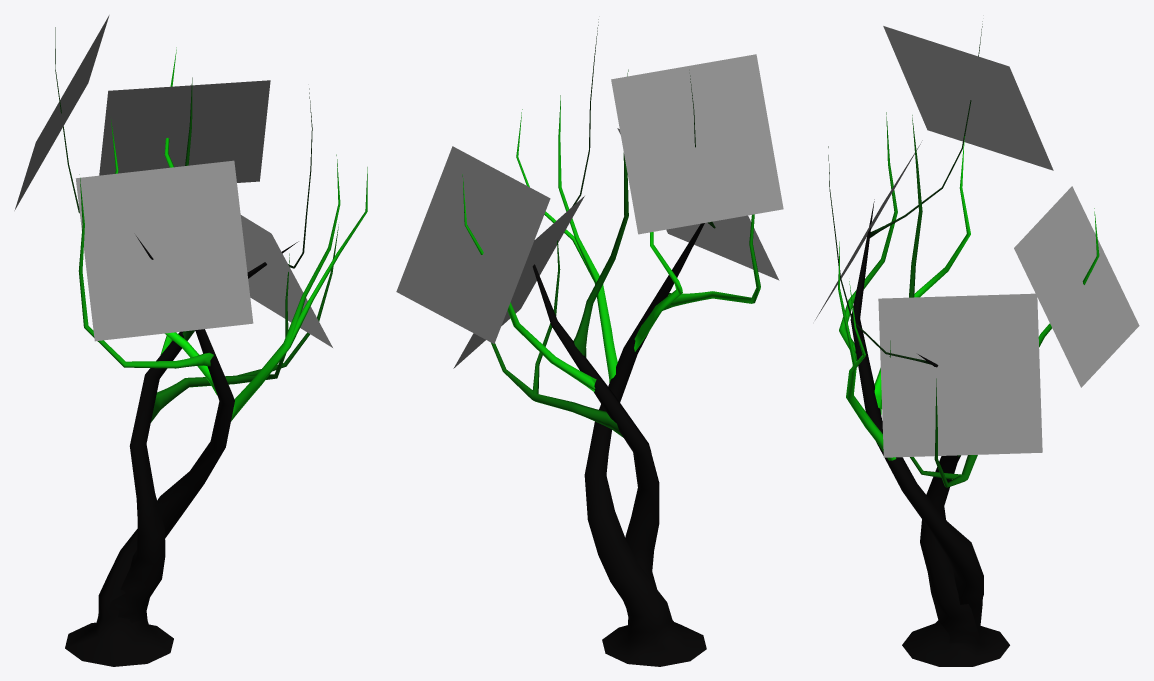
File: S_Ingredient.fbx
3 renders of one model, left to right at view 1: azimuth 30°, elevation 25°; view 2: azimuth 150°, elevation 25°; view 3: azimuth 270°, elevation 25°, orthographic. The views are drawn at different scales.
Visible parts, largest first — view 1: PlaneA1, IngredientBUSH; view 2: PlaneA1, IngredientBUSH; view 3: PlaneA1, IngredientBUSH.
Part boxes in pixels (x1=…): PlaneA1: x1=14, y1=15, x2=332, y2=347; IngredientBUSH: x1=55, y1=27, x2=367, y2=666; PlaneA1: x1=396, y1=54, x2=783, y2=368; IngredientBUSH: x1=462, y1=19, x2=760, y2=666; PlaneA1: x1=815, y1=26, x2=1139, y2=457; IngredientBUSH: x1=828, y1=21, x2=1099, y2=666.
Bounding box in the file's own units: 25.96 × 47.13 × 23.01.
